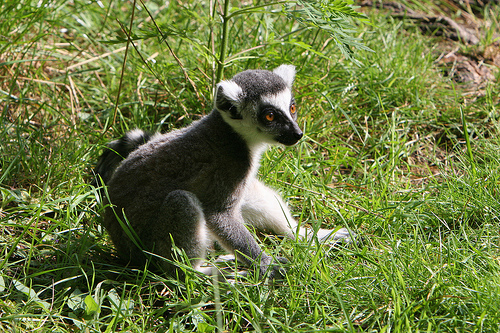cat: (102, 64, 357, 276)
